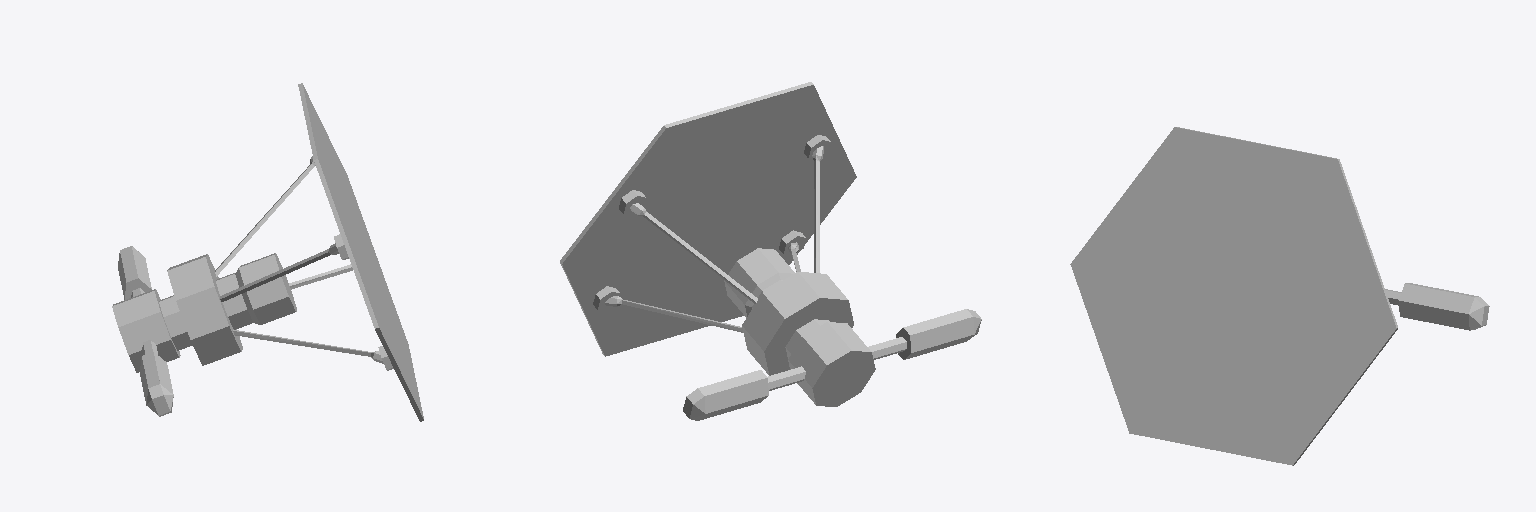
Rendered from stg300_MotReflector_p4_16.obj.
3 renders of one model, left to right at view 1: azimuth 30°, elevation 25°; view 2: azimuth 150°, elevation 25°; view 3: azimuth 270°, elevation 25°, orthographic.
Parts seen in each view (by area): view 1: polygon2, polygon1, polygon3, polygon0; view 2: polygon2, polygon3, polygon1, polygon0; view 3: polygon3, polygon2, polygon1.
Boxes of the visible parts, x1,y1,x2,y2 form: polygon2: [167, 83, 423, 421]; polygon1: [112, 246, 296, 414]; polygon3: [305, 91, 420, 409]; polygon0: [120, 246, 171, 416]; polygon2: [560, 82, 856, 375]; polygon3: [618, 101, 800, 339]; polygon1: [689, 248, 981, 420]; polygon0: [683, 309, 980, 417]; polygon3: [1079, 135, 1388, 456]; polygon2: [1070, 127, 1397, 465]; polygon1: [1385, 284, 1484, 330].
Bounding box in the file's own units: 292 × 235 × 334.